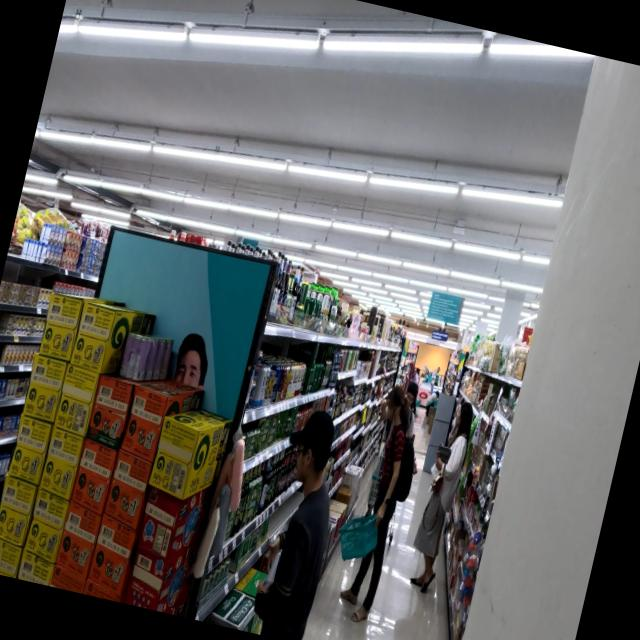shoplifting: (245, 406, 354, 640)
